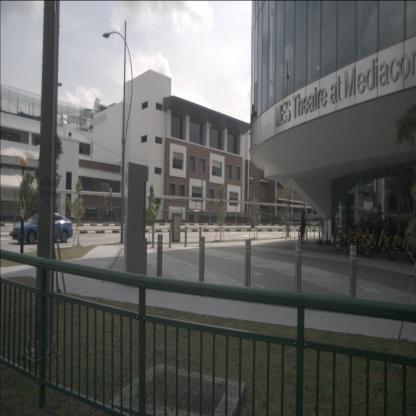human-pedestrian-adult: (300, 210, 306, 244)
vehicle-bicycle: (298, 222, 308, 242)
vehicle-car: (12, 211, 73, 245)
